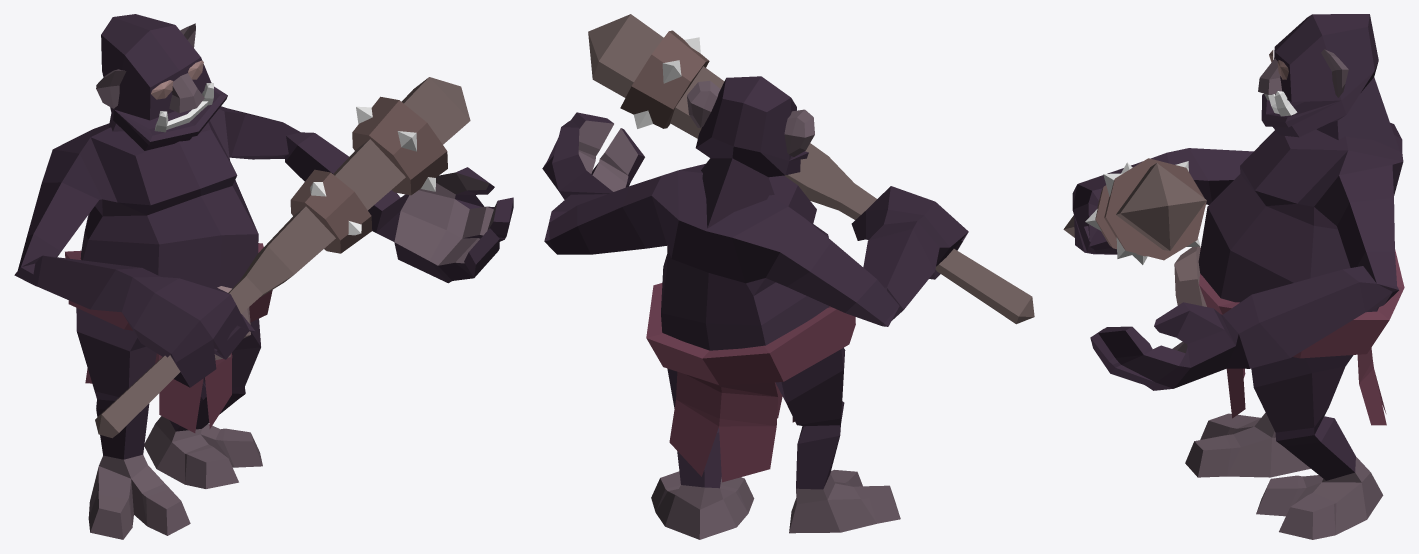
File: Monster.fbx
3 renders of one model, left to right at view 1: azimuth 30°, elevation 25°; view 2: azimuth 150°, elevation 25°; view 3: azimuth 270°, elevation 25°, orthographic. The views are drawn at different scales.
Visible parts, largest first — view 1: Monster; view 2: Monster; view 3: Monster.
Part boxes in pixels (<box>): Monster: <box>14,14,513,539</box>; Monster: <box>542,14,1034,539</box>; Monster: <box>1063,14,1404,539</box>.
Bounding box in the file's own units: 72.55 × 70.34 × 46.01.
